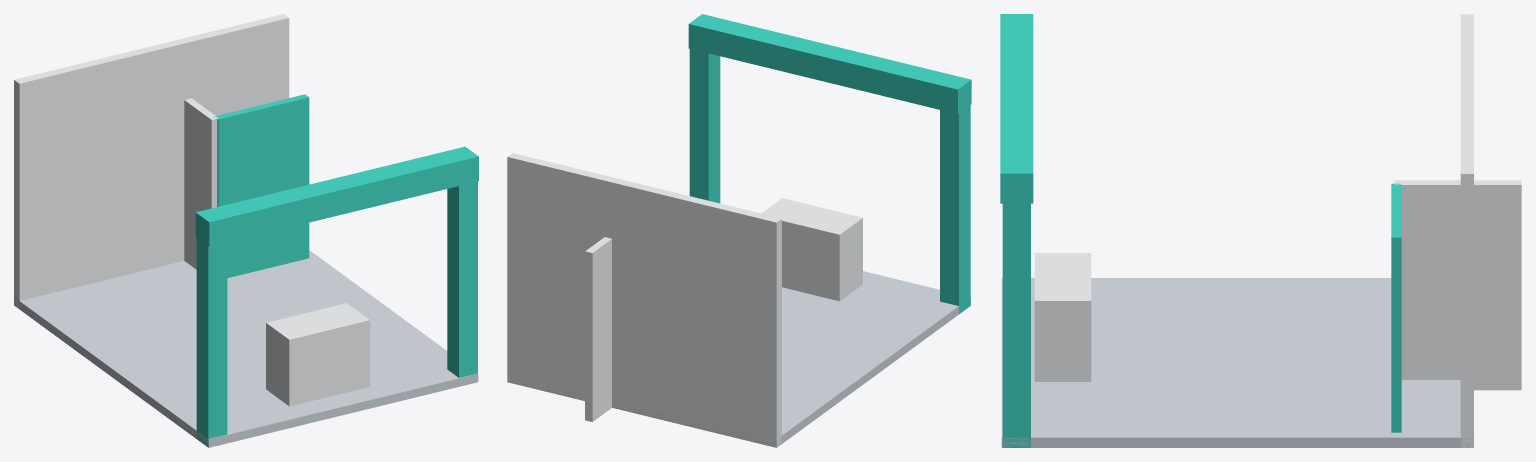
3 views of the same model, side by side, from view 1: azimuth 30°, elevation 25°; view 2: azimuth 150°, elevation 25°; view 3: azimuth 270°, elevation 25° (orthographic). The views are drawn at different scales.
Visible parts, largest first — view 1: Exhibition Booth Concept; view 2: Exhibition Booth Concept; view 3: Exhibition Booth Concept.
Boxes of the visible parts, x1=… form: Exhibition Booth Concept: x1=14, y1=14, x2=478, y2=447; Exhibition Booth Concept: x1=507, y1=14, x2=971, y2=447; Exhibition Booth Concept: x1=1000, y1=14, x2=1521, y2=447.
Bounding box in the file's own units: 4 × 3.2 × 5.52.
